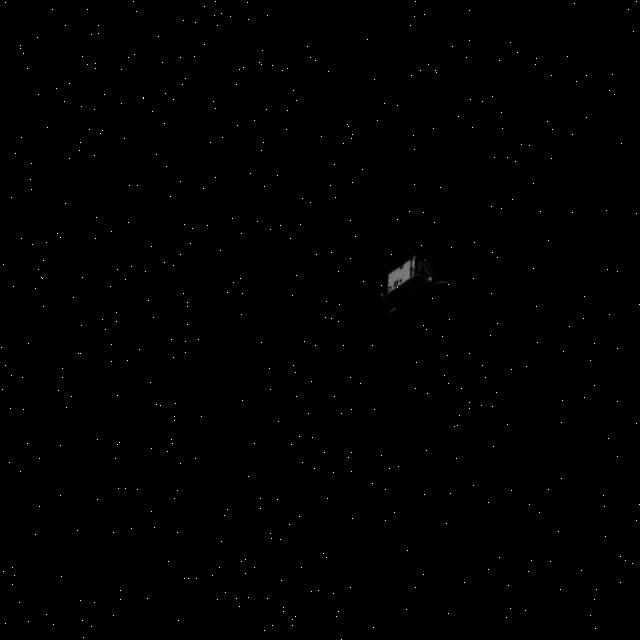satellite: (380, 260, 458, 322)
